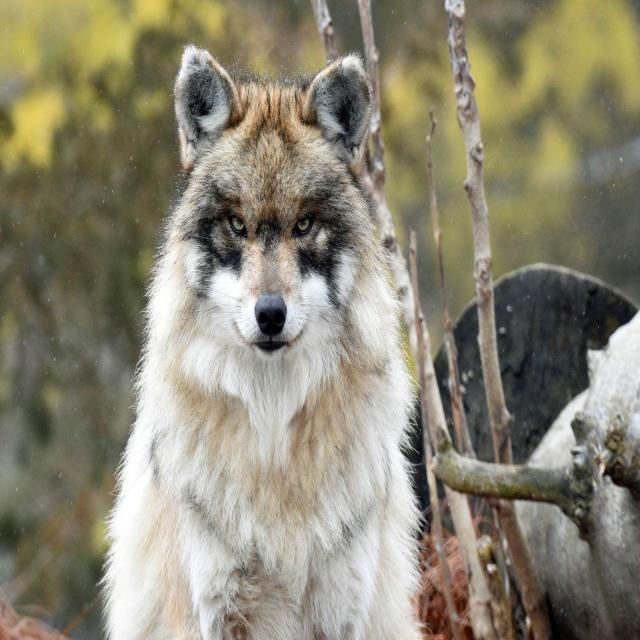Wolf: (96, 42, 429, 638)
